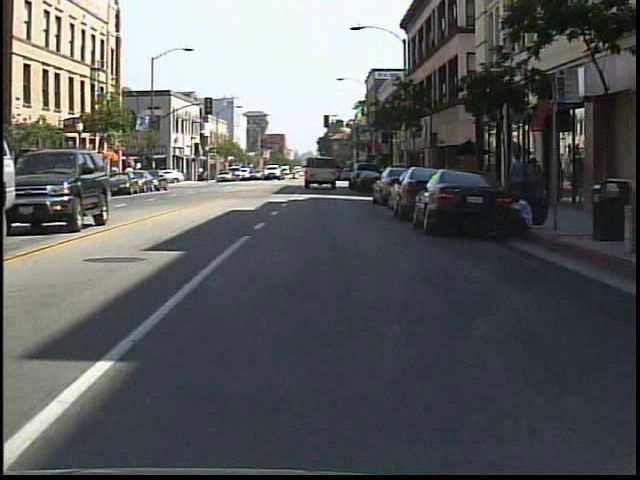person: (503, 148, 529, 216), (523, 156, 548, 215)
